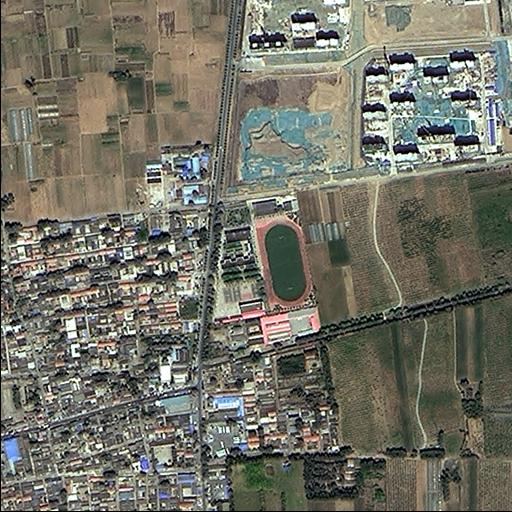school: (205, 192, 313, 325)
